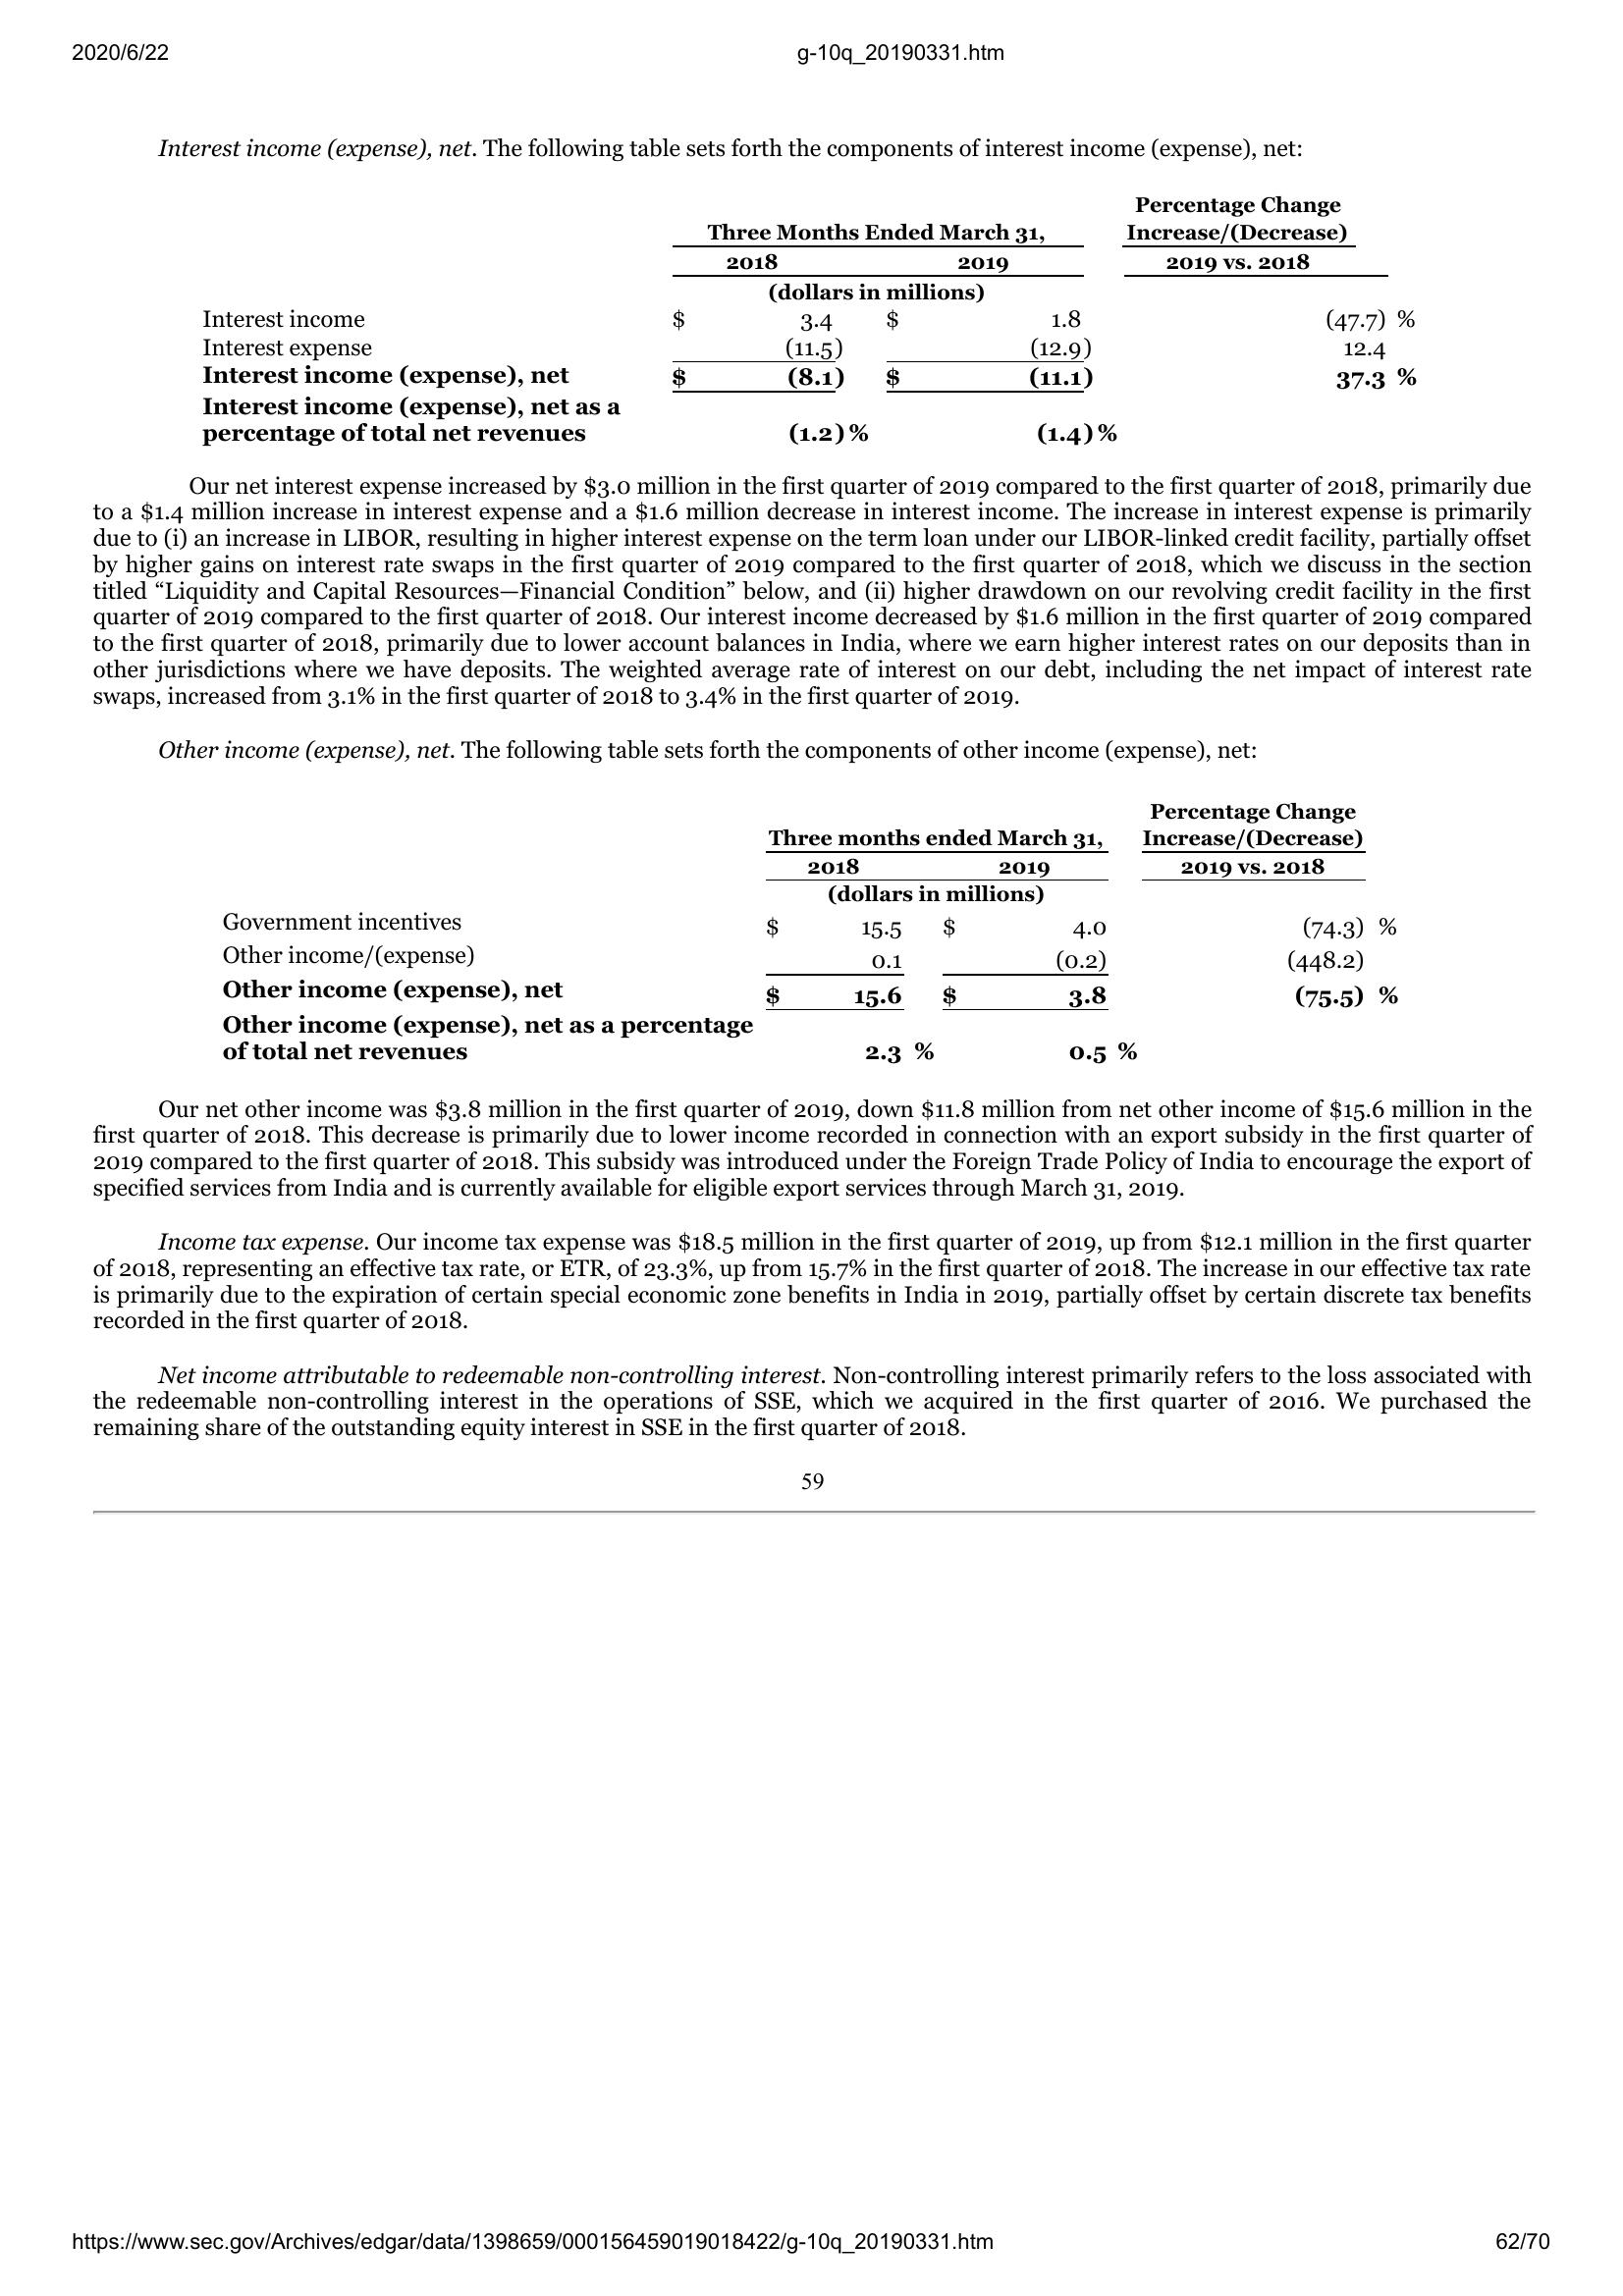table: (195, 183, 1430, 453), (214, 795, 1416, 1067)
